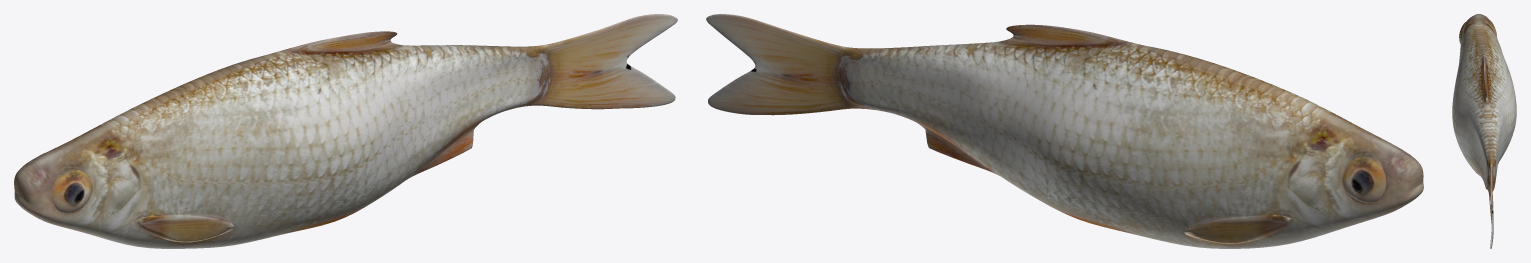
Rendered from ploc.obj.
3 renders of one model, left to right at view 1: azimuth 30°, elevation 25°; view 2: azimuth 150°, elevation 25°; view 3: azimuth 270°, elevation 25°, orthographic. The views are drawn at different scales.
Visible parts, largest first — view 1: płoć; view 2: płoć; view 3: płoć.
Boxes of the visible parts, bbox=[...] form: płoć: bbox=[14, 14, 677, 248]; płoć: bbox=[706, 14, 1423, 248]; płoć: bbox=[1452, 14, 1516, 248].
Bounding box in the file's own units: 0.2576 × 0.066 × 0.0385.
